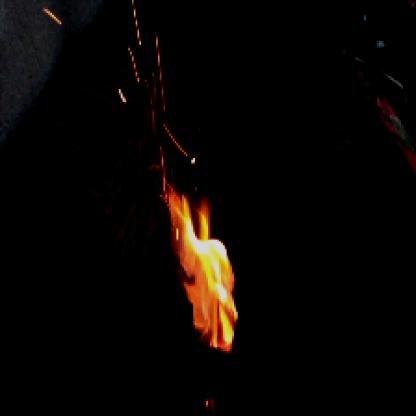Fire: (154, 165, 242, 353)
